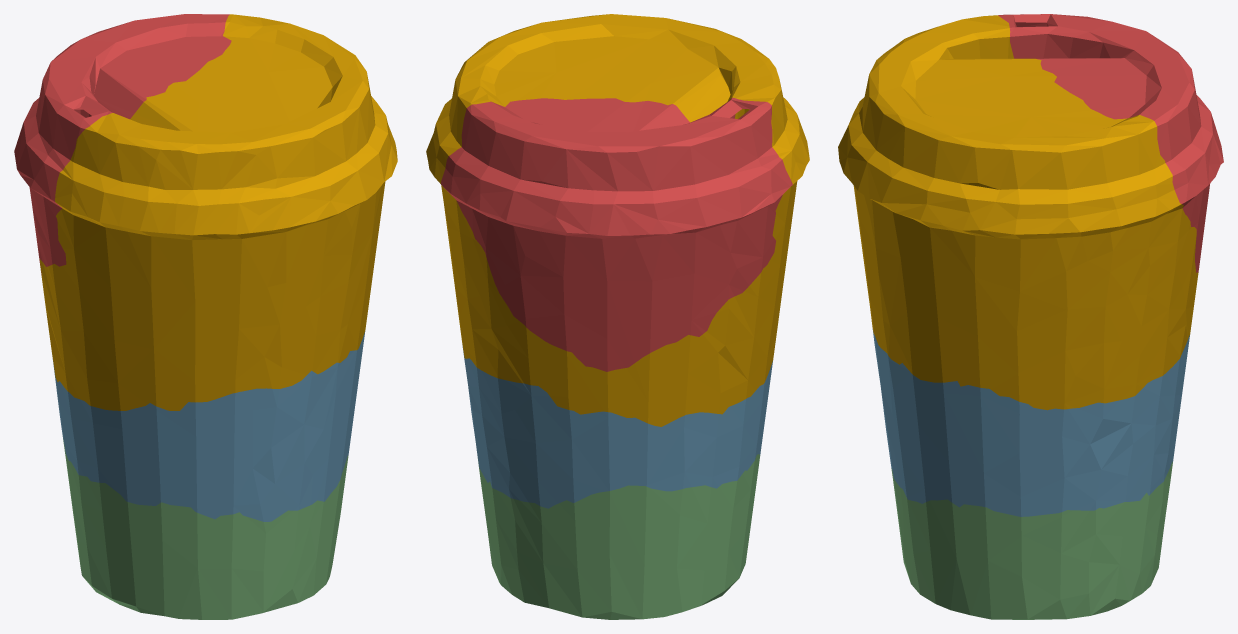
File: fractured_30_4pcs.glb
3 views of the same model, side by side, from view 1: azimuth 30°, elevation 25°; view 2: azimuth 150°, elevation 25°; view 3: azimuth 270°, elevation 25° (orthographic).
Visible parts, largest first — view 1: piece_0.obj, piece_2.obj, piece_3.obj, piece_1.obj; view 2: piece_1.obj, piece_0.obj, piece_3.obj, piece_2.obj; view 3: piece_0.obj, piece_2.obj, piece_3.obj, piece_1.obj.
Boxes of the visible parts, x1,y1,x2,y2 form: piece_0.obj: (39,14,397,410); piece_2.obj: (52,331,365,521); piece_3.obj: (62,436,348,619); piece_1.obj: (14,14,231,274); piece_1.obj: (441,97,792,371); piece_0.obj: (426,14,809,426); piece_3.obj: (477,454,760,619); piece_2.obj: (462,347,772,508); piece_0.obj: (838,15,1198,410); piece_2.obj: (872,329,1189,516); piece_3.obj: (891,462,1172,619); piece_1.obj: (998,14,1223,272).
Size of the model in its own units: 0.7103 by 1 by 0.7115.
